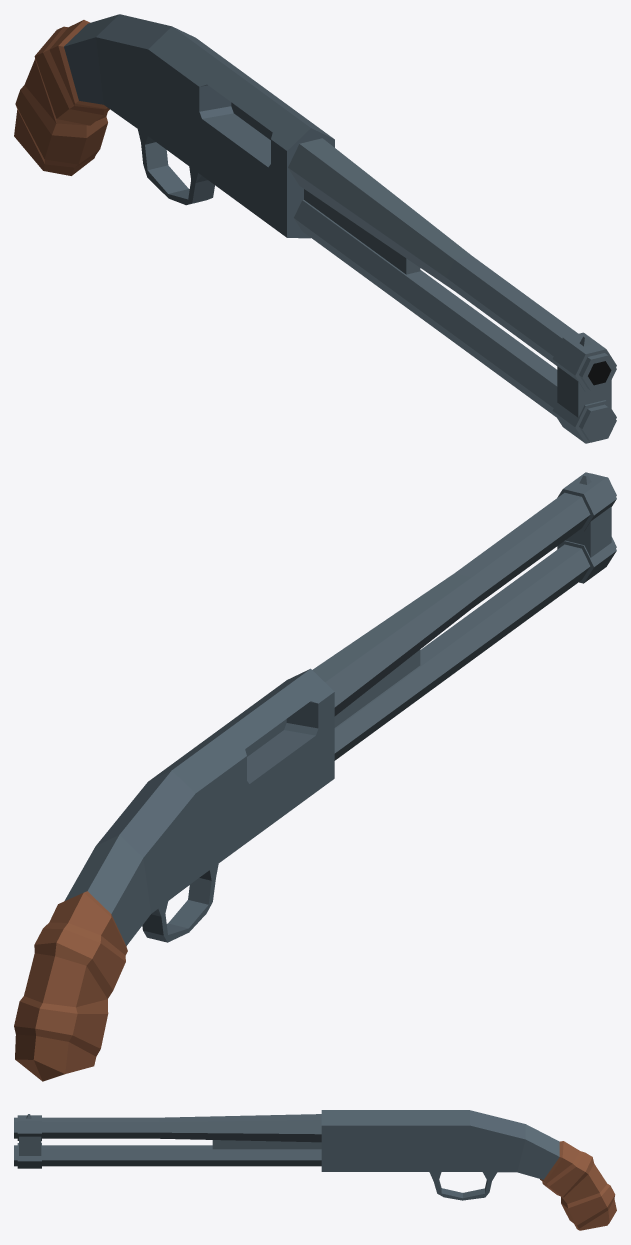
File: Shotgun.fbx
3 views of the same model, one above another, from view 1: azimuth 30°, elevation 25°; view 2: azimuth 150°, elevation 25°; view 3: azimuth 270°, elevation 25° (orthographic). The views are drawn at different scales.
Visible parts, largest first — view 1: SM_Wep_Shotgun_01; view 2: SM_Wep_Shotgun_01; view 3: SM_Wep_Shotgun_01.
Boxes of the visible parts, x1,y1,x2,y2 form: SM_Wep_Shotgun_01: (14, 14, 616, 443); SM_Wep_Shotgun_01: (14, 472, 616, 1081); SM_Wep_Shotgun_01: (14, 1110, 616, 1230).
Bounding box in the file's own units: 918 × 3377 × 15495.
